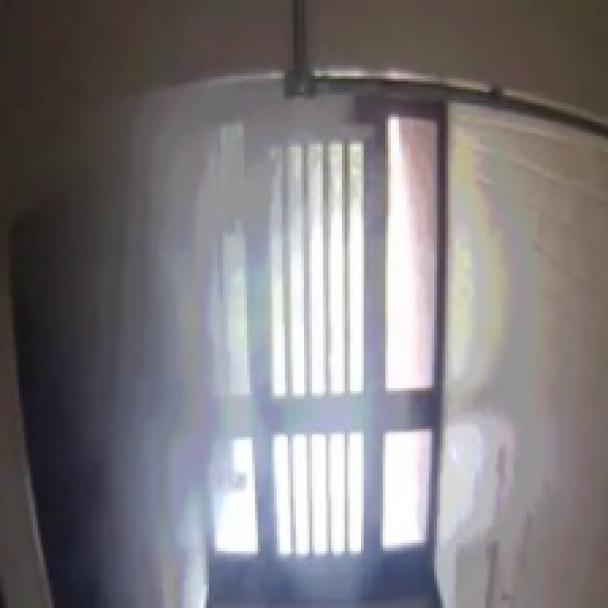smoke: (46, 60, 388, 605)
